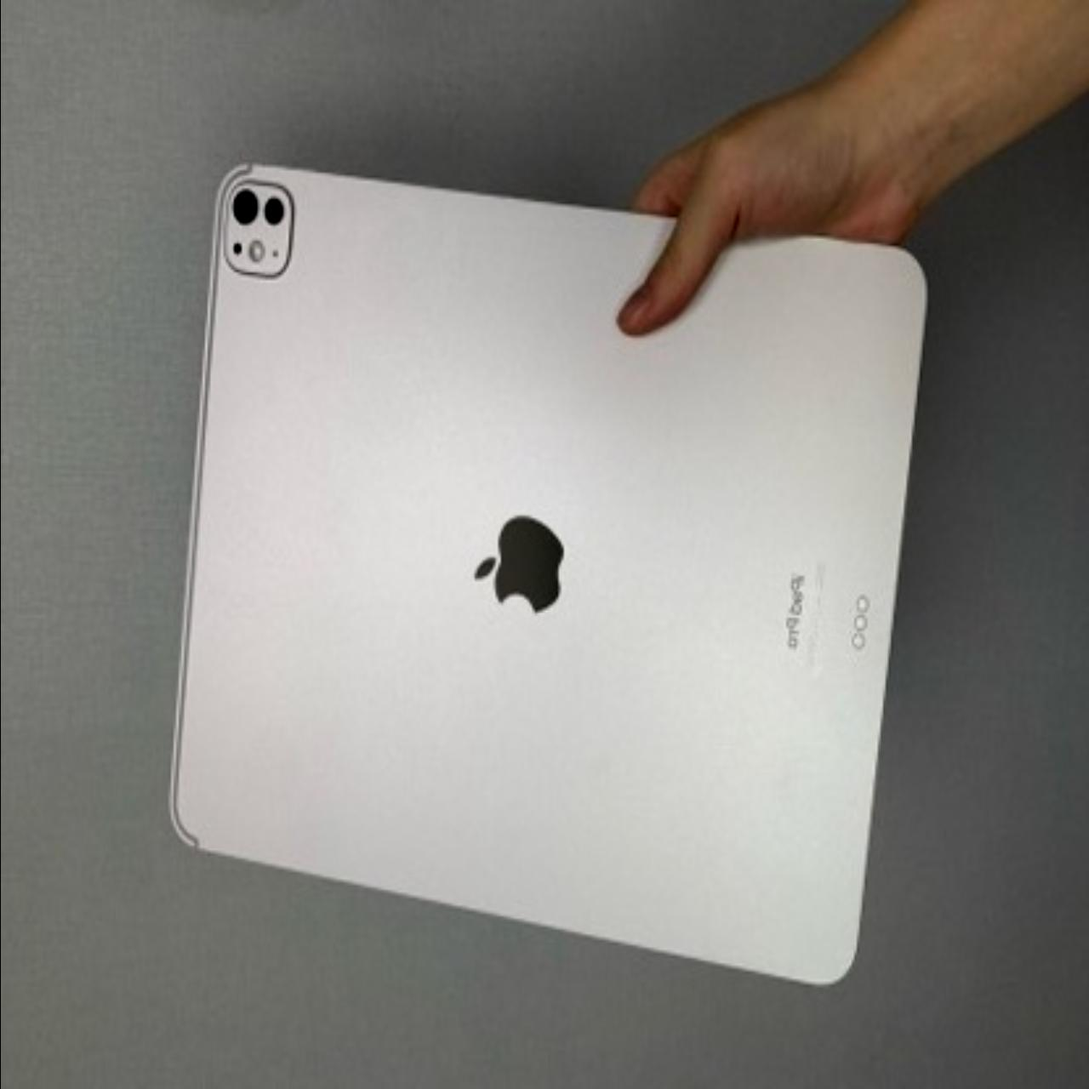Tablet_PC: (155, 152, 948, 1005)
